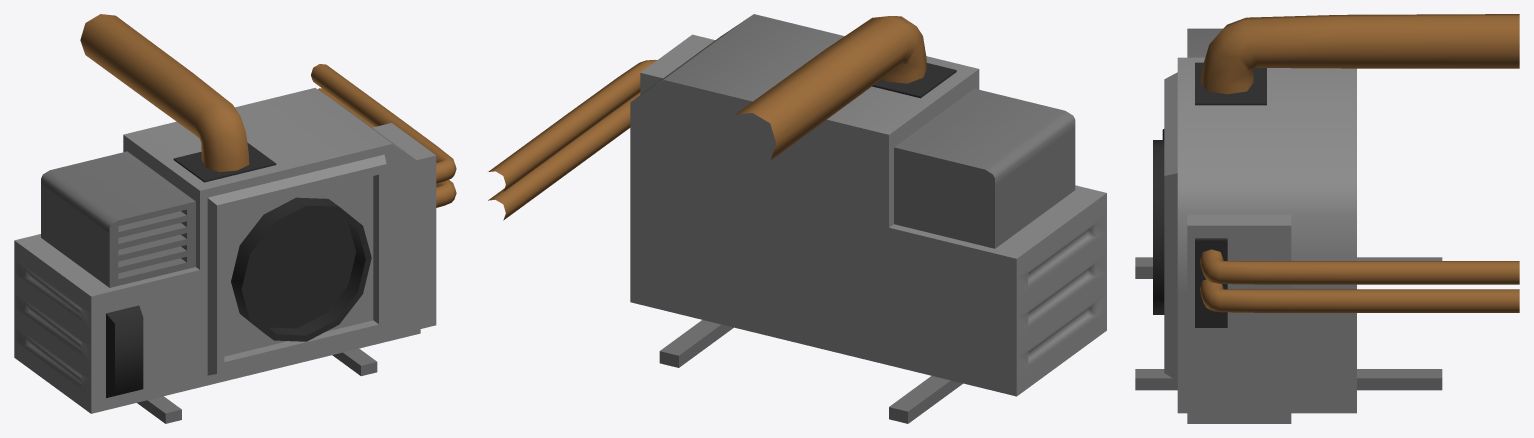
3 renders of one model, left to right at view 1: azimuth 30°, elevation 25°; view 2: azimuth 150°, elevation 25°; view 3: azimuth 270°, elevation 25°, orthographic. The views are drawn at different scales.
Visible parts, largest first — view 1: AC; view 2: AC; view 3: AC.
Part boxes in pixels (x1,y1,x2,y2): AC: [14, 14, 456, 423]; AC: [488, 14, 1106, 423]; AC: [1135, 14, 1519, 423].
Size of the model in its own units: 1.04 by 0.6856 by 0.7709.
